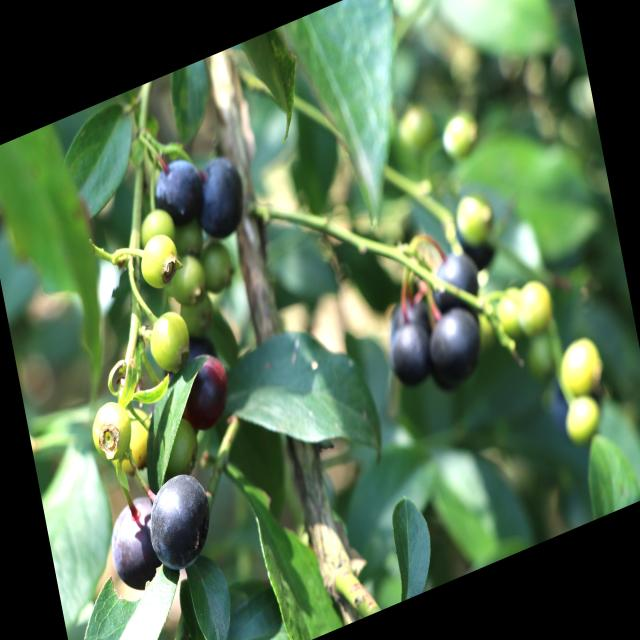blueberry: (143, 466, 219, 578), (103, 491, 168, 601), (187, 146, 252, 248), (172, 348, 235, 441), (148, 151, 208, 234), (427, 300, 484, 386), (383, 315, 435, 393), (429, 244, 482, 316)
blueberry-unripe: (85, 393, 138, 472), (146, 306, 195, 376), (560, 334, 607, 398), (136, 229, 180, 293), (455, 188, 496, 252), (562, 394, 607, 448), (170, 256, 205, 304)
